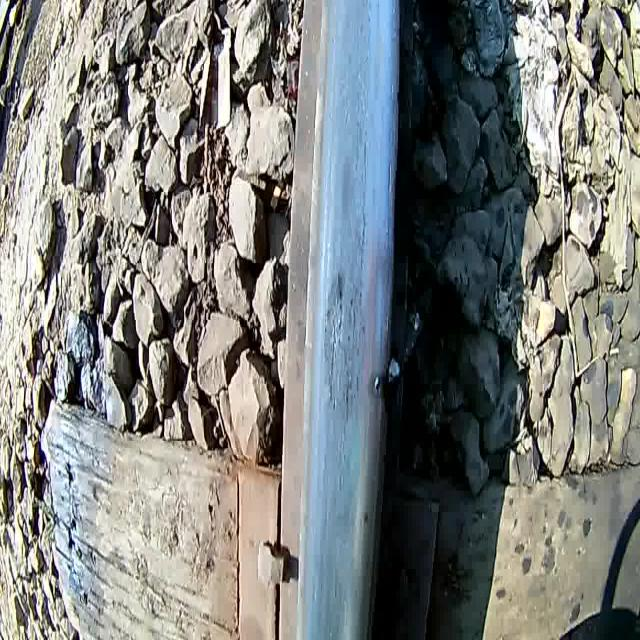Squats: (277, 0, 417, 640)
